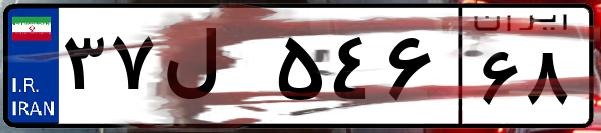3: (57, 26, 110, 100)
4: (330, 28, 385, 110)
5: (270, 28, 330, 110)
6: (385, 28, 445, 110), (475, 38, 525, 113)
7: (110, 28, 158, 98)
8: (525, 38, 570, 115)
ل: (158, 20, 270, 120)
